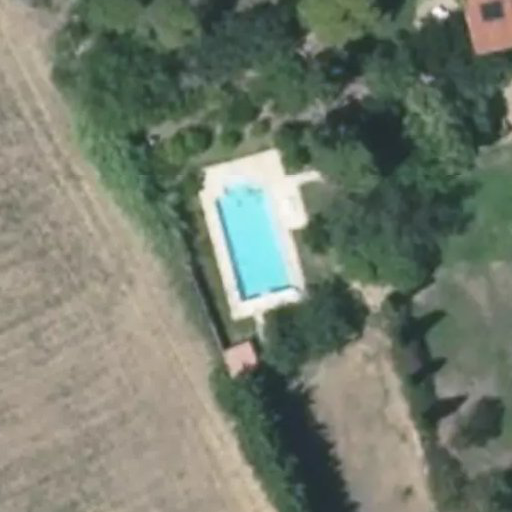pool: (214, 187, 294, 290)
